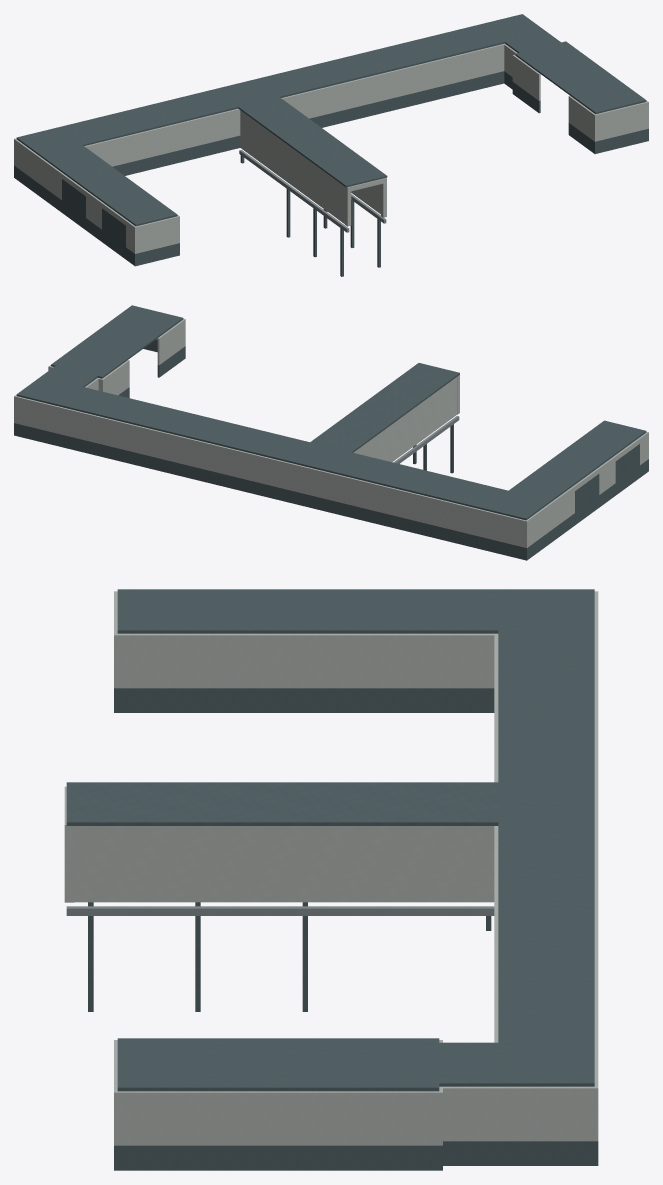
Rendered from AST-RES-TIDAL_D15_guarded_shaft_receiving_r001.glb.
3 views of the same model, one above another, from view 1: azimuth 30°, elevation 25°; view 2: azimuth 150°, elevation 25°; view 3: azimuth 270°, elevation 25° (orthographic). The views are drawn at different scales.
Visible parts, largest first — view 1: D15_LinkRoof, D15_LinkWall_West, TidalStaffRoof_D15_-3_-62_0, TidalStaffRoof_D15_-8_-63_0, TidalStaffWallHigh_D15_-7_-63_0, TidalStaffWallHigh_D15_-4_-63_0, TidalStaffWallHigh_D15_-5_-63_0, TidalStaffRoof_D15_-7_-63_0, TidalStaffRoof_D15_-5_-63_0, TidalStaffRoof_D15_-4_-63_0, TidalStaffRoof_D15_-6_-63_0, TidalStaffRoof_D15_-8_-62_0 (+21 smaller); view 2: D15_LinkRoof, TidalStaffWallHigh_D15_-8_-63_1, D15_LinkWall_West, TidalStaffRoof_D15_-3_-62_0, TidalStaffRoof_D15_-8_-63_0, screen_wall_staff_white_paint_D15_-6_-63, TidalStaffWallHigh_D15_-4_-63_1, TidalStaffWallHigh_D15_-7_-63_1, TidalStaffWallHigh_D15_-5_-63_1, TidalStaffRoof_D15_-4_-63_0, TidalStaffRoof_D15_-7_-63_0, TidalStaffRoof_D15_-6_-63_0 (+19 smaller); view 3: D15_LinkWall_East, D15_LinkRoof, TidalStaffWallHigh_D15_-8_-62_0, TidalStaffWallHigh_D15_-3_-62_1, TidalStaffRoof_D15_-3_-62_0, TidalStaffRoof_D15_-8_-63_0, TidalStaffRoof_D15_-8_-62_0, TidalStaffWallHigh_D15_-3_-63_1, TidalStaffRoof_D15_-5_-63_0, TidalStaffRoof_D15_-7_-63_0, TidalStaffRoof_D15_-6_-63_0, TidalStaffRoof_D15_-4_-63_0 (+13 smaller).
Boxes of the visible parts, x1,y1,x2,y2 form: D15_LinkRoof: [238, 97, 387, 187]; D15_LinkWall_West: [240, 110, 344, 223]; TidalStaffRoof_D15_-3_-62_0: [515, 41, 619, 94]; TidalStaffRoof_D15_-8_-63_0: [16, 118, 119, 166]; TidalStaffWallHigh_D15_-7_-63_0: [120, 115, 213, 164]; TidalStaffWallHigh_D15_-4_-63_0: [398, 47, 491, 96]; TidalStaffWallHigh_D15_-5_-63_0: [305, 69, 398, 118]; TidalStaffRoof_D15_-7_-63_0: [96, 95, 212, 137]; TidalStaffRoof_D15_-5_-63_0: [281, 50, 397, 91]; TidalStaffRoof_D15_-4_-63_0: [374, 27, 490, 69]; TidalStaffRoof_D15_-6_-63_0: [188, 73, 305, 114]; TidalStaffRoof_D15_-8_-62_0: [55, 156, 150, 206]; D15_LinkRoof: [310, 363, 459, 452]; TidalStaffWallHigh_D15_-8_-63_1: [446, 492, 566, 547]; D15_LinkWall_West: [353, 377, 456, 461]; TidalStaffRoof_D15_-3_-62_0: [51, 325, 156, 378]; TidalStaffRoof_D15_-8_-63_0: [446, 480, 565, 520]; screen_wall_staff_white_paint_D15_-6_-63: [258, 455, 352, 505]; TidalStaffWallHigh_D15_-4_-63_1: [71, 410, 165, 459]; TidalStaffWallHigh_D15_-7_-63_1: [352, 478, 446, 528]; TidalStaffWallHigh_D15_-5_-63_1: [165, 432, 259, 482]; TidalStaffRoof_D15_-4_-63_0: [72, 390, 189, 432]; TidalStaffRoof_D15_-7_-63_0: [353, 458, 470, 500]; TidalStaffRoof_D15_-6_-63_0: [259, 436, 376, 477]; D15_LinkWall_East: [74, 826, 494, 902]; D15_LinkRoof: [66, 782, 498, 825]; TidalStaffWallHigh_D15_-8_-62_0: [225, 633, 439, 688]; TidalStaffWallHigh_D15_-3_-62_1: [225, 1091, 439, 1145]; TidalStaffRoof_D15_-3_-62_0: [225, 1038, 439, 1091]; TidalStaffRoof_D15_-8_-63_0: [439, 589, 594, 666]; TidalStaffRoof_D15_-8_-62_0: [225, 589, 439, 633]; TidalStaffWallHigh_D15_-3_-63_1: [439, 1032, 598, 1145]; TidalStaffRoof_D15_-5_-63_0: [498, 847, 594, 938]; TidalStaffRoof_D15_-7_-63_0: [498, 666, 594, 756]; TidalStaffRoof_D15_-6_-63_0: [498, 757, 594, 847]; TidalStaffRoof_D15_-4_-63_0: [498, 938, 594, 1028].
Size of the model in its own units: 44.28 by 7.84 by 19.92.
Materials: 4 (4 with a texture image).
